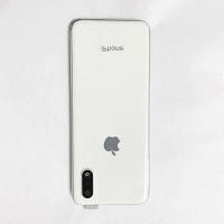phone: (63, 15, 154, 210)
